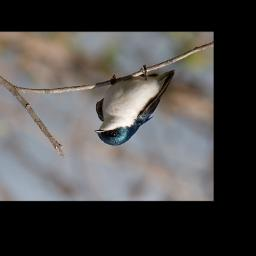Swallow: (96, 64, 177, 146)
